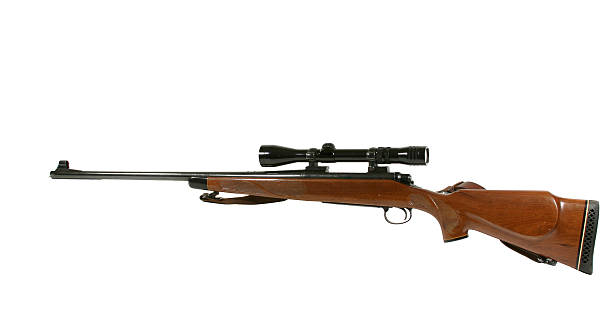rifle: (43, 130, 606, 286)
